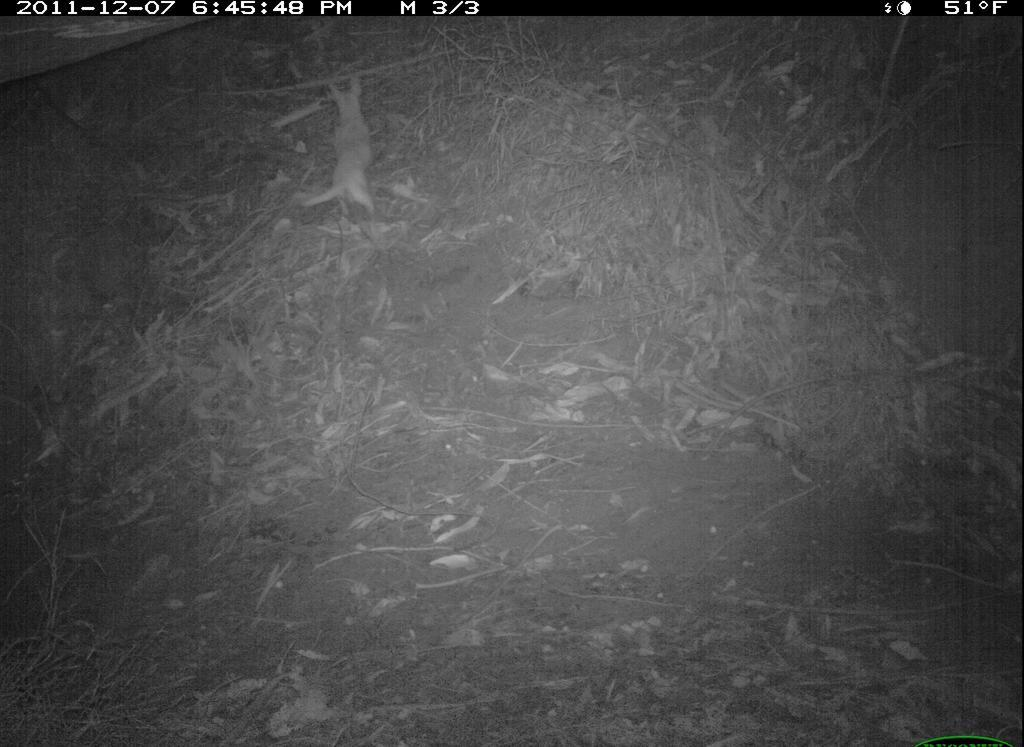dog: (300, 73, 386, 237)
